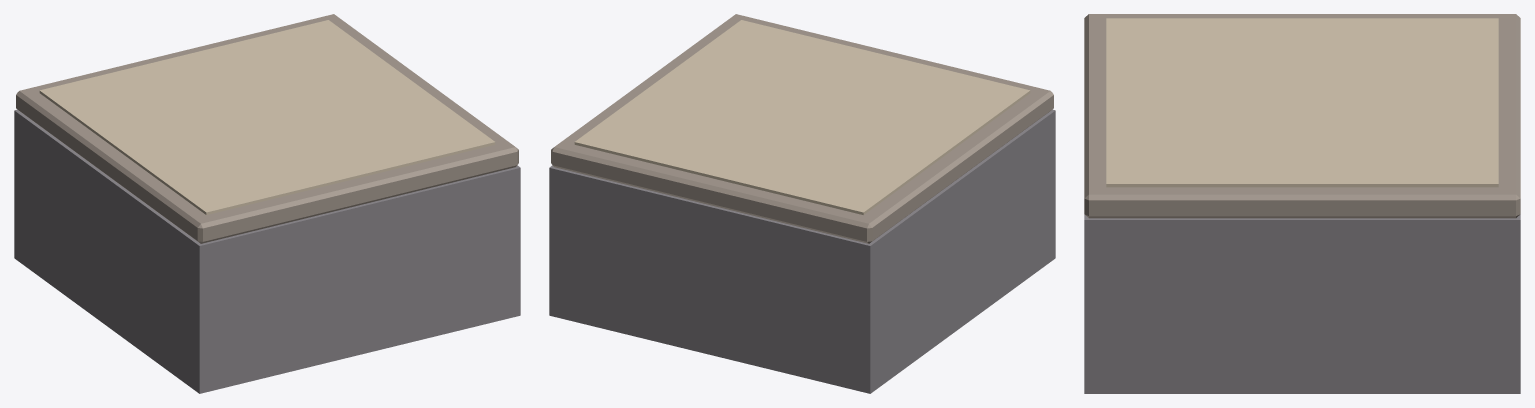
File: stair_landing.glb
3 views of the same model, side by side, from view 1: azimuth 30°, elevation 25°; view 2: azimuth 150°, elevation 25°; view 3: azimuth 270°, elevation 25° (orthographic). The views are drawn at different scales.
Visible parts, largest first — view 1: stair_landing; view 2: stair_landing; view 3: stair_landing.
Part boxes in pixels (x1,y1,x2,y2): stair_landing: (14, 14, 520, 393); stair_landing: (549, 14, 1055, 393); stair_landing: (1084, 14, 1520, 393).
Bounding box in the file's own units: 1 × 0.508 × 1.
1 material, 1 textured.
